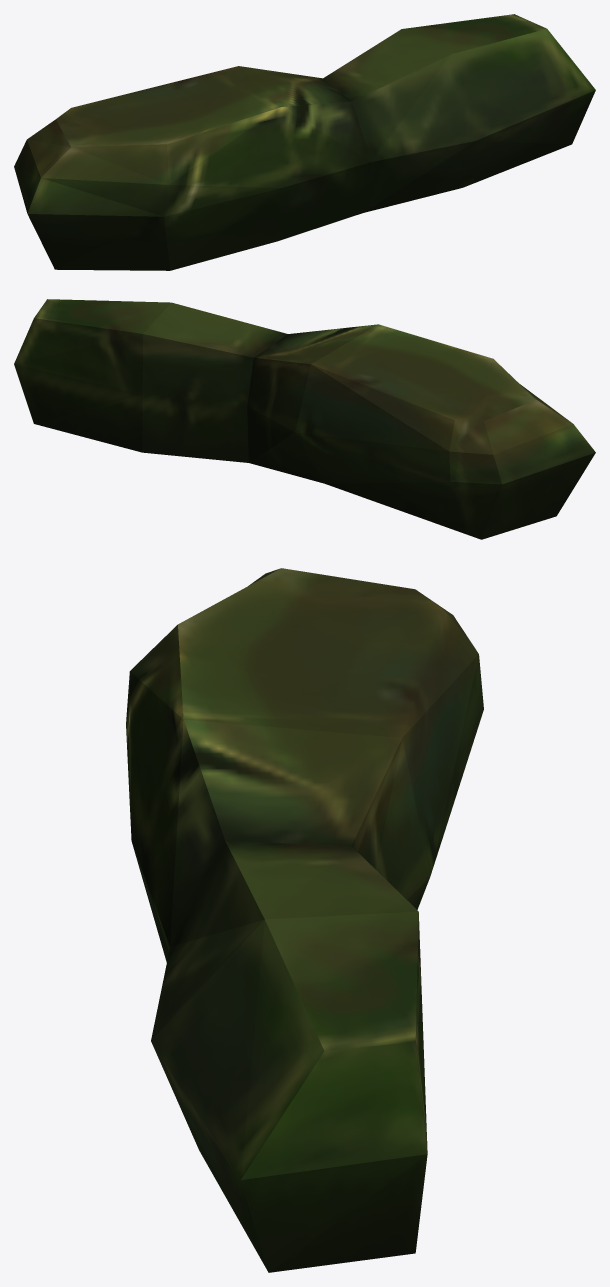
Rendered from Swamp_shitou15.FBX.
3 renders of one model, top to bottom at view 1: azimuth 30°, elevation 25°; view 2: azimuth 150°, elevation 25°; view 3: azimuth 270°, elevation 25°, orthographic. The views are drawn at different scales.
Visible parts, largest first — view 1: shitou15; view 2: shitou15; view 3: shitou15.
Part boxes in pixels (x1,y1,x2,y2): shitou15: (14, 14, 595, 270); shitou15: (14, 299, 595, 539); shitou15: (126, 568, 483, 1272).
Size of the model in its own units: 238 by 52.16 by 66.29.
